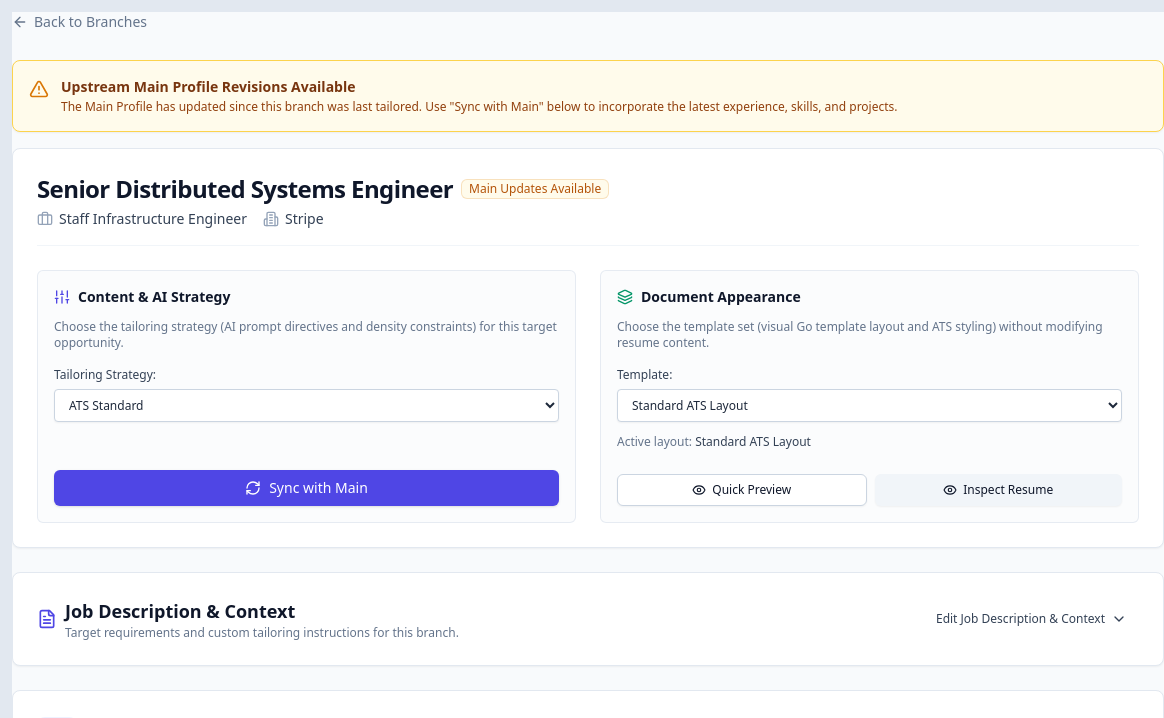
Test: BranchWorkbenchPage › enqueues tailoring generation when 'Sync with Main' is clicked on a stale branch
Click the button "Sync with Main".
click(306, 488)  # box [54, 470, 559, 506]
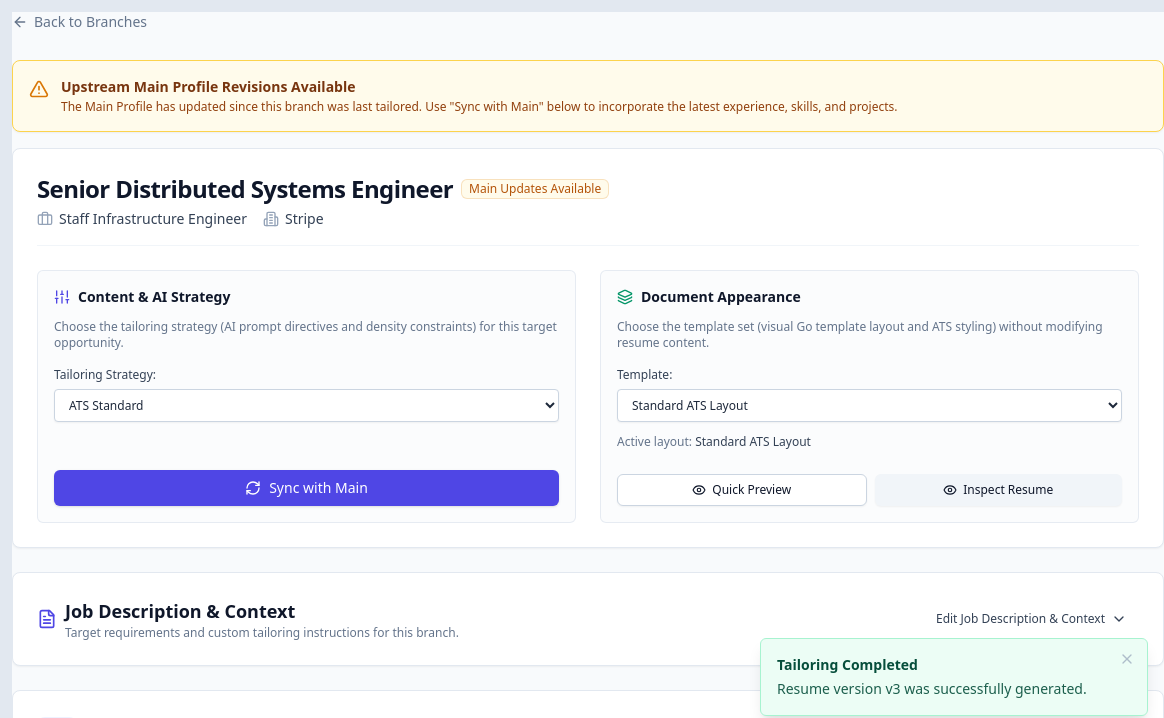
Expected: the text "Tailoring Completed" is shown, [777, 655, 918, 674]
